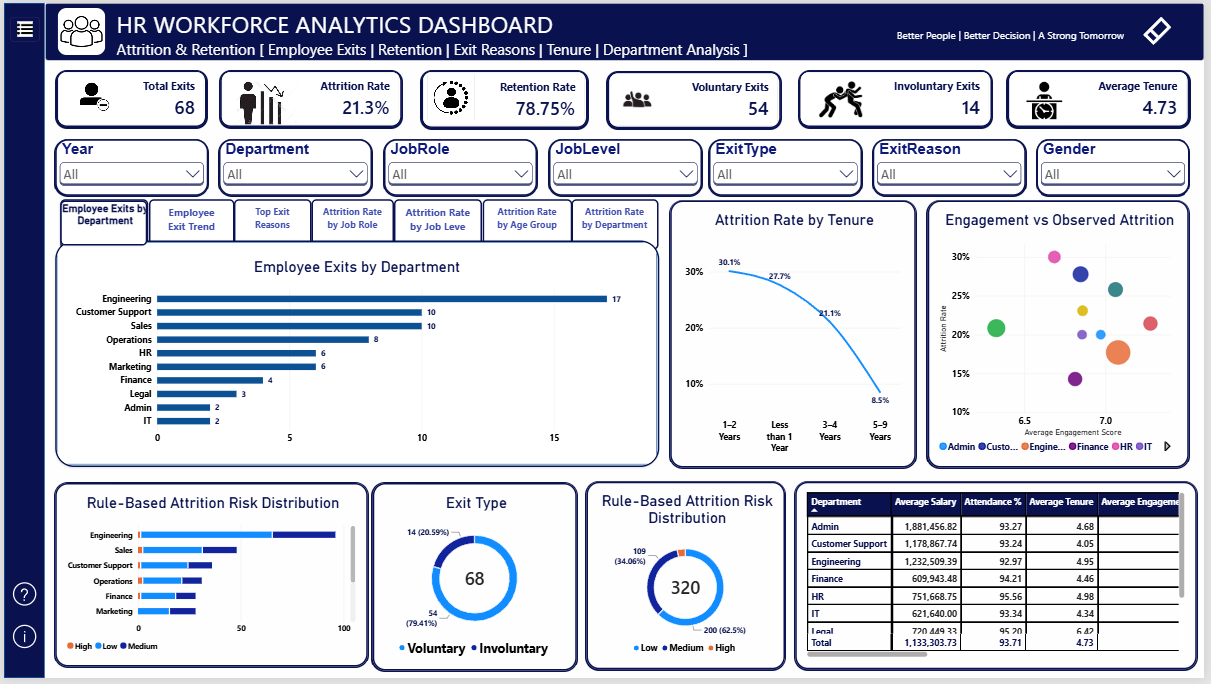

The page's visual inventory and layout, read from the dashboard file:
{"tool":"powerbi","page":{"name":"Attrition & Retention","canvas":[1920,1080],"ordinal":3},"visuals":[{"type":"shape","title":"side corner layout","box":[0,0,65,1080],"z":0,"group":"g14"},{"type":"actionButton","title":"top nav bar","box":[66,0,1854,92],"z":0,"group":"g13"},{"type":"cardVisual","fields":{"Data":["Measures (2).Total Exits"]},"box":[84,108,240.2,90],"z":0,"group":"g10"},{"type":"cardVisual","fields":{"Data":["Measures (2).Involuntary Exits"]},"box":[1271.9,108.2,308.9,90],"z":0,"group":"g4"},{"type":"cardVisual","fields":{"Data":["Measures (2).Attrition Rate"]},"box":[345.5,108.5,290.6,90],"z":0,"group":"g12"},{"type":"cardVisual","fields":{"Data":["Measures (2).Retention Rate"]},"box":[667.4,108.5,265.4,92],"z":0,"group":"g11"},{"type":"group","id":"g1","title":"Group 4","box":[1606.2,108.8,290.6,90],"z":0,"group":"g7"},{"type":"cardVisual","fields":{"Data":["Measures (2).Average Tenure"]},"box":[1606.2,108.8,290.6,90],"z":0,"group":"g1"},{"type":"cardVisual","fields":{"Data":["Measures (2).Voluntary Exits"]},"box":[967.1,110,276.8,90],"z":0,"group":"g8"},{"type":"slicer","fields":{"Values":["DimDate.Year"]},"box":[82,218,244.9,90],"z":0,"group":"g5"},{"type":"group","id":"g2","title":"Group 1","box":[81.7,315,966,428],"z":0},{"type":"group","id":"g3","title":"inactive button","box":[89.7,316,957,81],"z":0,"group":"g2"},{"type":"actionButton","title":"job level","box":[623.7,316,141,79],"z":0,"group":"g3"},{"type":"shape","box":[81.7,381,966,362],"z":0,"group":"g6"},{"type":"image","title":"people icon","box":[85,7.5,76,75],"z":1000,"group":"g13"},{"type":"group","id":"g4","title":"Group 3","box":[1271.9,108.2,308.9,90],"z":1000,"group":"g7"},{"type":"image","box":[98.6,115.6,93.8,75.7],"z":1000,"group":"g10"},{"type":"image","box":[677.9,117.4,74.3,71.6],"z":1000,"group":"g11"},{"type":"image","box":[962.5,118,102.5,72.3],"z":1000,"group":"g8"},{"type":"image","box":[1624.5,118.8,80.7,75.7],"z":1000,"group":"g1"},{"type":"image","box":[1293.9,120.2,89.5,69],"z":1000,"group":"g4"},{"type":"image","box":[370.5,125.5,96,68],"z":1000,"group":"g12"},{"type":"group","id":"g5","title":"slicers","box":[82,218,1814,90],"z":1000},{"type":"slicer","fields":{"Values":["DimEmployee.JobLevel"]},"box":[872.9,218,244.9,90],"z":1000,"group":"g5"},{"type":"group","id":"g6","title":"active buttons","box":[81.7,315,966,428],"z":1000,"group":"g2"},{"type":"actionButton","title":"job role","box":[491.7,316,132,80],"z":1000,"group":"g3"},{"type":"actionButton","title":"info","box":[7.5,985,50,50],"z":1000,"group":"g14"},{"type":"actionButton","title":"clear slicer","box":[1794,12,102,66],"z":2000,"group":"g13"},{"type":"group","id":"g7","title":"Group 2","box":[84,108,1812.8,92.5],"z":2000},{"type":"group","id":"g8","title":"Group 1","box":[962.5,110,281.4,90],"z":2000,"group":"g7"},{"type":"slicer","fields":{"Values":["DimEmployee.JobRole"]},"box":[608.5,218,244.9,90],"z":2000,"group":"g5"},{"type":"actionButton","title":"rate by dpt","box":[907.7,316,139,81],"z":2000,"group":"g3"},{"type":"group","id":"g9","title":"charts","box":[96.7,395,934,333],"z":2000,"group":"g2"},{"type":"actionButton","title":"help","box":[7.5,917.5,50,50],"z":2000,"group":"g14"},{"type":"textbox","box":[180,7.5,1220,85],"z":3000,"group":"g13"},{"type":"actionButton","title":"menu Button","box":[10,22.5,47.5,40],"z":3000,"group":"g14"},{"type":"group","id":"g10","title":"Group 1","box":[84,108,240.2,90],"z":3000,"group":"g7"},{"type":"slicer","fields":{"Values":["DimDepartment.Department"]},"box":[344,218,244.9,90],"z":3000,"group":"g5"},{"type":"actionButton","title":"top exits","box":[367.7,316,124,80],"z":3000,"group":"g3"},{"type":"donutChart","title":"Exit Type","fields":{"Category":["FactExit.ExitType"],"Y":["Measures (2).Total Exits"]},"box":[590,767.5,326.7,300],"z":3000},{"type":"textbox","box":[1306,22,486,62],"z":4000,"group":"g13"},{"type":"group","id":"g11","title":"Group 1","box":[667.4,108.5,265.4,92],"z":4000,"group":"g7"},{"type":"slicer","fields":{"Values":["DimEmployee.Gender"]},"box":[1651.6,218,244.9,90],"z":4000,"group":"g5"},{"type":"actionButton","title":"age grp","box":[764.7,316,143,81],"z":4000,"group":"g3"},{"type":"pivotTable","fields":{"Rows":["DimDepartment.Department"],"Values":["Measures (2).Average Salary","Measures (2).Attendance %","Measures (2).Average Tenure","Measures (2).Average Engagement Score","Measures (2).Attrition Rate","Measures (2).Total Exits1","Measures (2).Voluntary Exits","Measures (2).Total Employees","Measures (2).High Risk Employees","Measures (2).Low Risk Employees","Measures (2).Medium Risk Employees"]},"box":[1265,765,642.5,300],"z":4000},{"type":"group","id":"g12","title":"Group 1","box":[345.5,108.5,290.6,90],"z":5000,"group":"g7"},{"type":"slicer","fields":{"Values":["FactExit.ExitReason"]},"box":[1389.6,218,244.9,90],"z":5000,"group":"g5"},{"type":"actionButton","title":"exit trend","box":[230.7,316,137,79],"z":5000,"group":"g3"},{"type":"donutChart","title":"Rule-Based Attrition Risk Distribution","fields":{"Category":["DimEmployee.AttritionRiskBand"],"Y":["Measures (2).Total Employees"]},"box":[932.5,765,317.5,300],"z":5000},{"type":"slicer","fields":{"Values":["DimEmployee.ExitType"]},"box":[1127.6,218,244.9,90],"z":6000,"group":"g5"},{"type":"scatterChart","title":"Engagement vs Observed Attrition","fields":{"Series":["DimDepartment.Department"],"Size":["Measures (2).Total Employees"],"X":["Measures (2).Average Engagement Score"],"Y":["Measures (2).Attrition Rate"]},"box":[1477.5,315,417.5,427.5],"z":6000},{"type":"actionButton","title":"exits by dept","box":[89.7,316,141,80],"z":6000,"group":"g3"},{"type":"clusteredBarChart","title":"Employee Exits by Department","fields":{"Category":["DimDepartment.Department"],"Y":["Measures (2).Total Exits1"]},"box":[96.7,395,934,332],"z":6000,"group":"g9"},{"type":"group","id":"g13","title":"top nav bar","box":[66,0,1854,92.5],"z":7000},{"type":"actionButton","title":"Employee Exits by Department","box":[89.7,317,139,72],"z":7000,"group":"g6"},{"type":"lineChart","title":"Attrition Rate by Tenure","fields":{"Category":["DimEmployee.Tenure Group"],"Y":["Measures (2).Attrition Rate"]},"box":[1065,315,392.5,427.5],"z":10000},{"type":"barChart","title":"Rule-Based Attrition Risk Distribution","fields":{"Category":["DimDepartment.Department"],"Series":["DimEmployee.AttritionRiskBand"],"Y":["Measures (2).Total Employees"]},"box":[82.5,767.5,500,293.3],"z":11000},{"type":"group","id":"g14","title":"menu bar","box":[0,0,65,1080],"z":11500}]}

Visuals, with their boxes in screenshot pixels (x1, y1, x2, y2), scaled from the page's 1920x1080 canvas onto the 1211x684 screenshot:
"side corner layout" shape: bbox=[0, 0, 41, 683]
"top nav bar" actionButton: bbox=[42, 0, 1210, 58]
cardVisual - Measures (2).Total Exits: bbox=[53, 68, 204, 125]
cardVisual - Measures (2).Involuntary Exits: bbox=[802, 69, 997, 126]
cardVisual - Measures (2).Attrition Rate: bbox=[218, 69, 401, 126]
cardVisual - Measures (2).Retention Rate: bbox=[421, 69, 588, 127]
"Group 4" group: bbox=[1013, 69, 1196, 126]
cardVisual - Measures (2).Average Tenure: bbox=[1013, 69, 1196, 126]
cardVisual - Measures (2).Voluntary Exits: bbox=[610, 70, 785, 127]
slicer - DimDate.Year: bbox=[52, 138, 206, 195]
"Group 1" group: bbox=[52, 200, 661, 471]
"inactive button" group: bbox=[57, 200, 660, 251]
"job level" actionButton: bbox=[393, 200, 482, 250]
shape: bbox=[52, 241, 661, 471]
"people icon" image: bbox=[54, 5, 102, 52]
"Group 3" group: bbox=[802, 69, 997, 126]
image: bbox=[62, 73, 121, 121]
image: bbox=[428, 74, 474, 120]
image: bbox=[607, 75, 672, 121]
image: bbox=[1025, 75, 1076, 123]
image: bbox=[816, 76, 873, 120]
image: bbox=[234, 79, 294, 123]
"slicers" group: bbox=[52, 138, 1196, 195]
slicer - DimEmployee.JobLevel: bbox=[551, 138, 705, 195]
"active buttons" group: bbox=[52, 200, 661, 471]
"job role" actionButton: bbox=[310, 200, 393, 251]
"info" actionButton: bbox=[5, 624, 36, 656]
"clear slicer" actionButton: bbox=[1132, 8, 1196, 49]
"Group 2" group: bbox=[53, 68, 1196, 127]
"Group 1" group: bbox=[607, 70, 785, 127]
slicer - DimEmployee.JobRole: bbox=[384, 138, 538, 195]
"rate by dpt" actionButton: bbox=[573, 200, 660, 251]
"charts" group: bbox=[61, 250, 650, 461]
"help" actionButton: bbox=[5, 581, 36, 613]
textbox: bbox=[114, 5, 883, 59]
"menu Button" actionButton: bbox=[6, 14, 36, 40]
"Group 1" group: bbox=[53, 68, 204, 125]
slicer - DimDepartment.Department: bbox=[217, 138, 371, 195]
"top exits" actionButton: bbox=[232, 200, 310, 251]
"Exit Type" donutChart: bbox=[372, 486, 578, 676]
textbox: bbox=[824, 14, 1130, 53]
"Group 1" group: bbox=[421, 69, 588, 127]
slicer - DimEmployee.Gender: bbox=[1042, 138, 1196, 195]
"age grp" actionButton: bbox=[482, 200, 573, 251]
pivotTable - DimDepartment.Department x Measures (2).Average Salary: bbox=[798, 484, 1203, 674]
"Group 1" group: bbox=[218, 69, 401, 126]
slicer - FactExit.ExitReason: bbox=[876, 138, 1031, 195]
"exit trend" actionButton: bbox=[146, 200, 232, 250]
"Rule-Based Attrition Risk Distribution" donutChart: bbox=[588, 484, 788, 674]
slicer - DimEmployee.ExitType: bbox=[711, 138, 866, 195]
"Engagement vs Observed Attrition" scatterChart: bbox=[932, 200, 1195, 470]
"exits by dept" actionButton: bbox=[57, 200, 146, 251]
"Employee Exits by Department" clusteredBarChart: bbox=[61, 250, 650, 460]
"top nav bar" group: bbox=[42, 0, 1210, 59]
"Employee Exits by Department" actionButton: bbox=[57, 201, 144, 246]
"Attrition Rate by Tenure" lineChart: bbox=[672, 200, 919, 470]
"Rule-Based Attrition Risk Distribution" barChart: bbox=[52, 486, 367, 672]
"menu bar" group: bbox=[0, 0, 41, 683]
